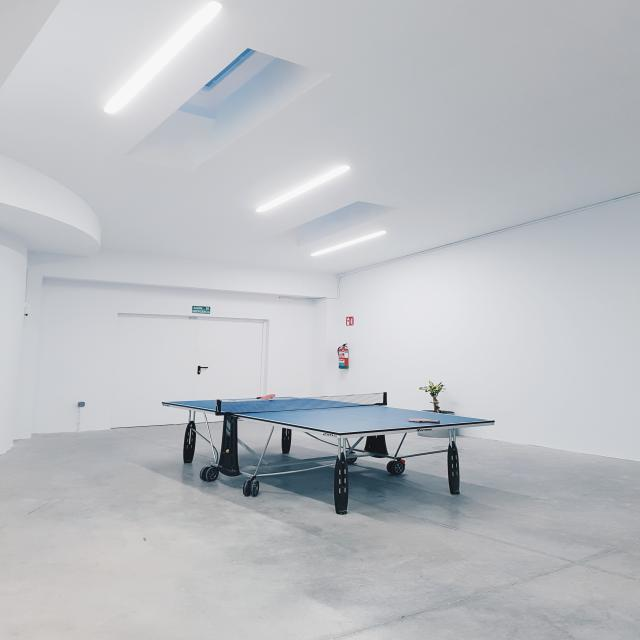floor: (0, 424, 640, 640), (263, 427, 338, 463), (396, 432, 449, 457), (237, 420, 272, 456), (256, 460, 336, 475), (207, 422, 223, 459), (385, 433, 404, 456), (308, 433, 338, 445), (195, 423, 210, 442), (354, 436, 367, 450), (347, 437, 361, 447), (352, 450, 363, 453), (346, 440, 349, 448), (341, 439, 343, 446), (451, 437, 453, 441)
